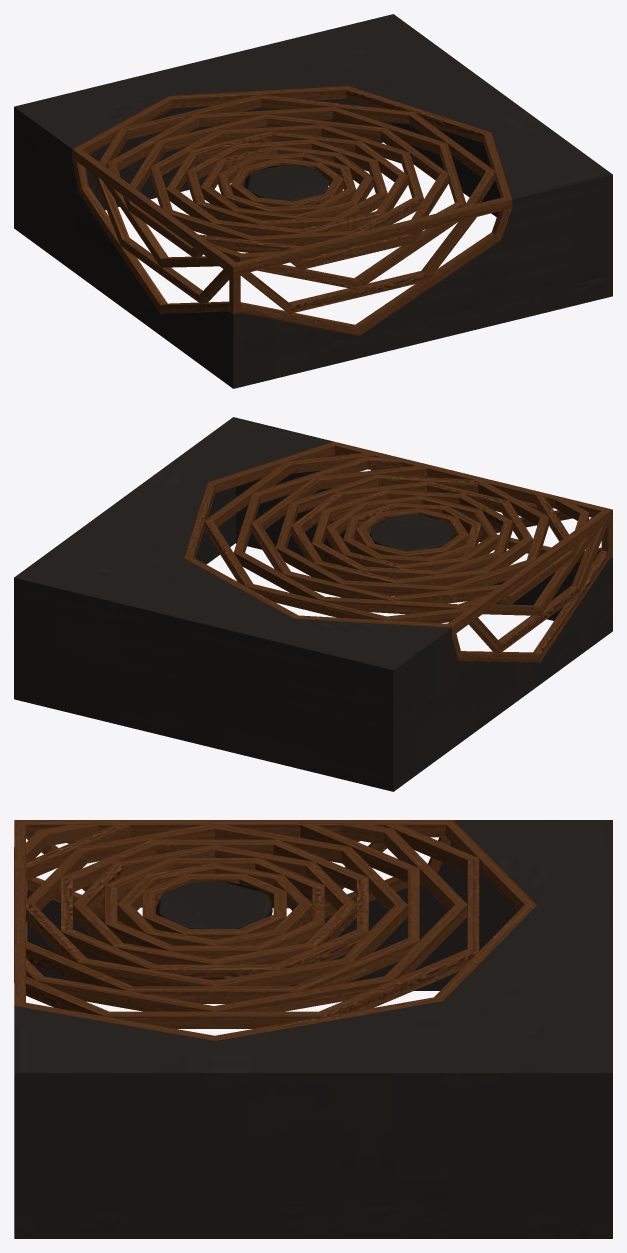
The model's file is modern_coffee_table_02.d013689e.glb.
3 renders of one model, top to bottom at view 1: azimuth 30°, elevation 25°; view 2: azimuth 150°, elevation 25°; view 3: azimuth 270°, elevation 25°, orthographic. The views are drawn at different scales.
Parts seen in each view (by area): view 1: modern_coffee_table_02; view 2: modern_coffee_table_02; view 3: modern_coffee_table_02.
Part boxes in pixels (box(x1,y1,x2,y2)): modern_coffee_table_02: box(14, 14, 612, 388); modern_coffee_table_02: box(14, 417, 612, 791); modern_coffee_table_02: box(14, 820, 612, 1238).
Size of the model in its own units: 0.7196 by 0.2216 by 0.72.
Materials: 2 (2 with a texture image).
